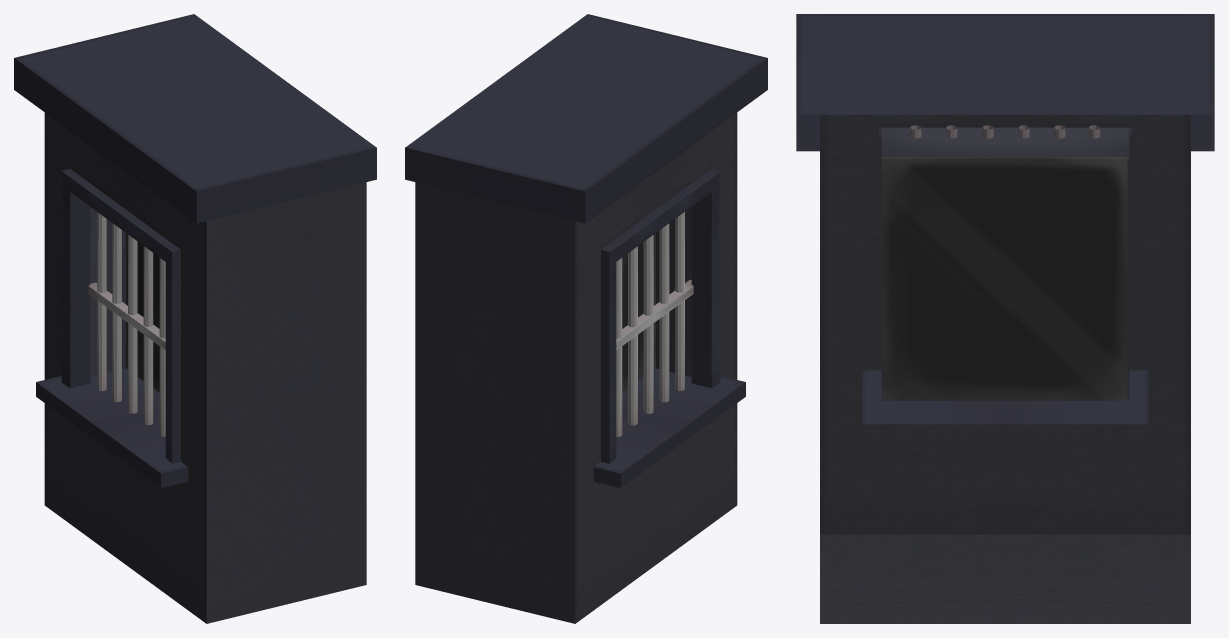
File: S1_mod_BarBuilding_005.fbx
3 renders of one model, left to right at view 1: azimuth 30°, elevation 25°; view 2: azimuth 150°, elevation 25°; view 3: azimuth 270°, elevation 25°, orthographic. The views are drawn at different scales.
Visible parts, largest first — view 1: S1_mod_BarBuilding_005; view 2: S1_mod_BarBuilding_005; view 3: S1_mod_BarBuilding_005.
Boxes of the visible parts, x1=… form: S1_mod_BarBuilding_005: x1=14, y1=14, x2=376, y2=623; S1_mod_BarBuilding_005: x1=405, y1=14, x2=767, y2=623; S1_mod_BarBuilding_005: x1=796, y1=14, x2=1214, y2=623.
Bounding box in the file's own units: 124 × 282 × 210.
